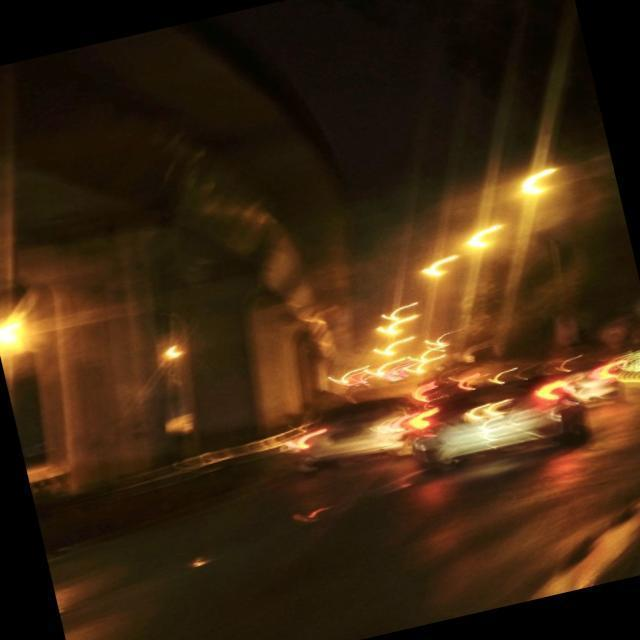on: (0, 276, 230, 432), (418, 168, 598, 302)
